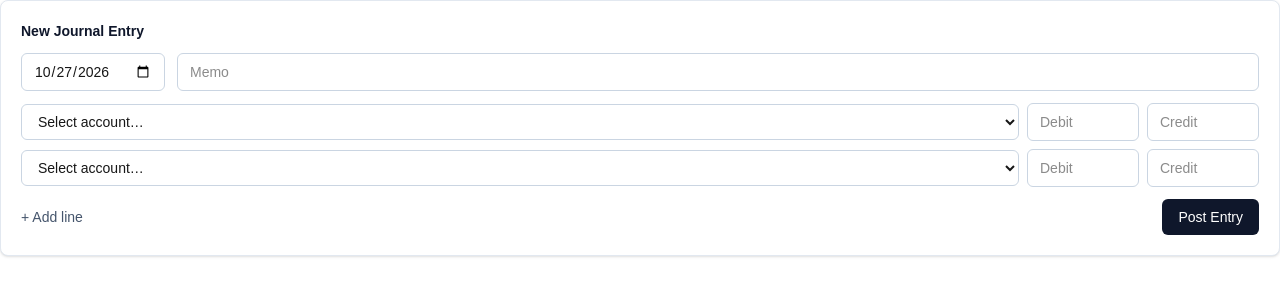
Test: JournalEntryForm › posts to the API when online with a balanced entry
Select "1000 — Cash" in the 1st dropdown at {"x": 520, "y": 122}, box [21,104,1019,140]
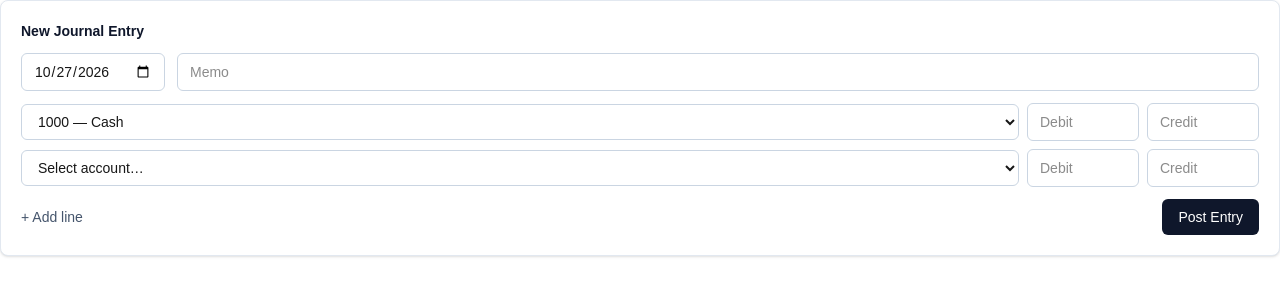
Select "4000 — Revenue" in the 2nd dropdown at {"x": 520, "y": 168}, box [21,150,1019,186]
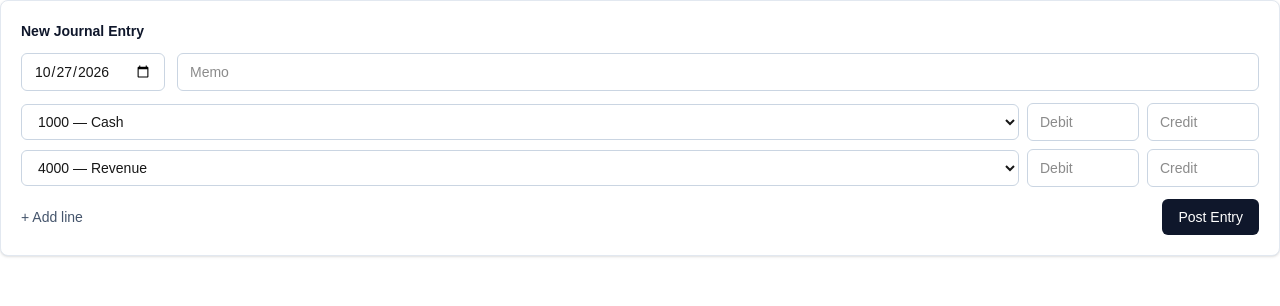
Type "100" into the 1st number field with placeholder "Debit" at {"x": 1083, "y": 122}, box [1027,103,1139,141]
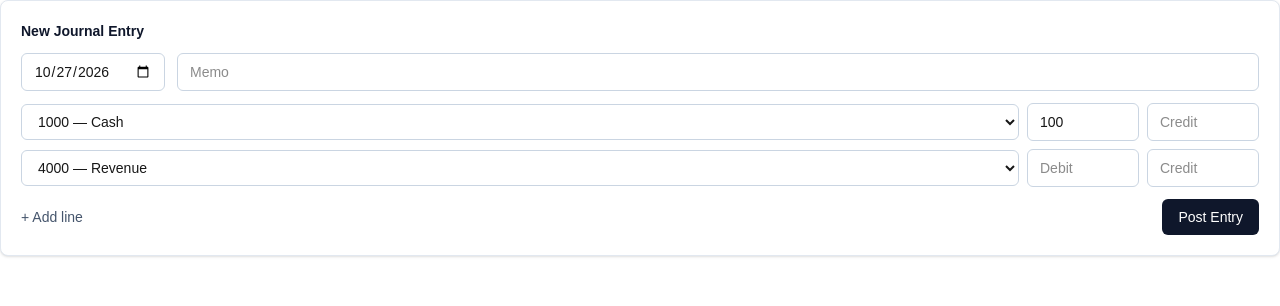
Type "100" into the 2nd number field with placeholder "Credit" at {"x": 1203, "y": 168}, box [1147,149,1259,187]
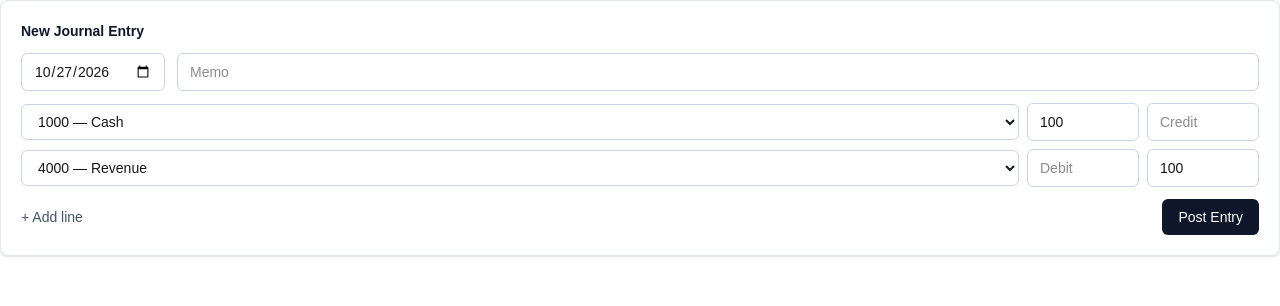
Click the button "Post Entry" at {"x": 1211, "y": 217}, box [1162,199,1259,235]
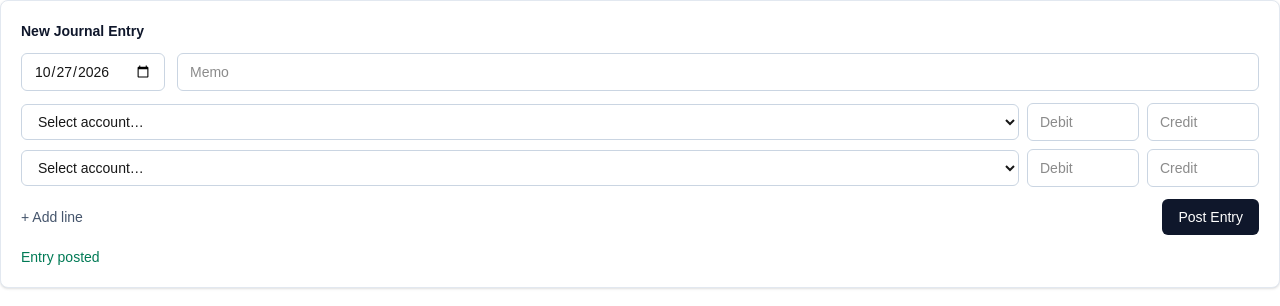
Expected: the text "Entry posted" is shown, [21,249,100,265]
